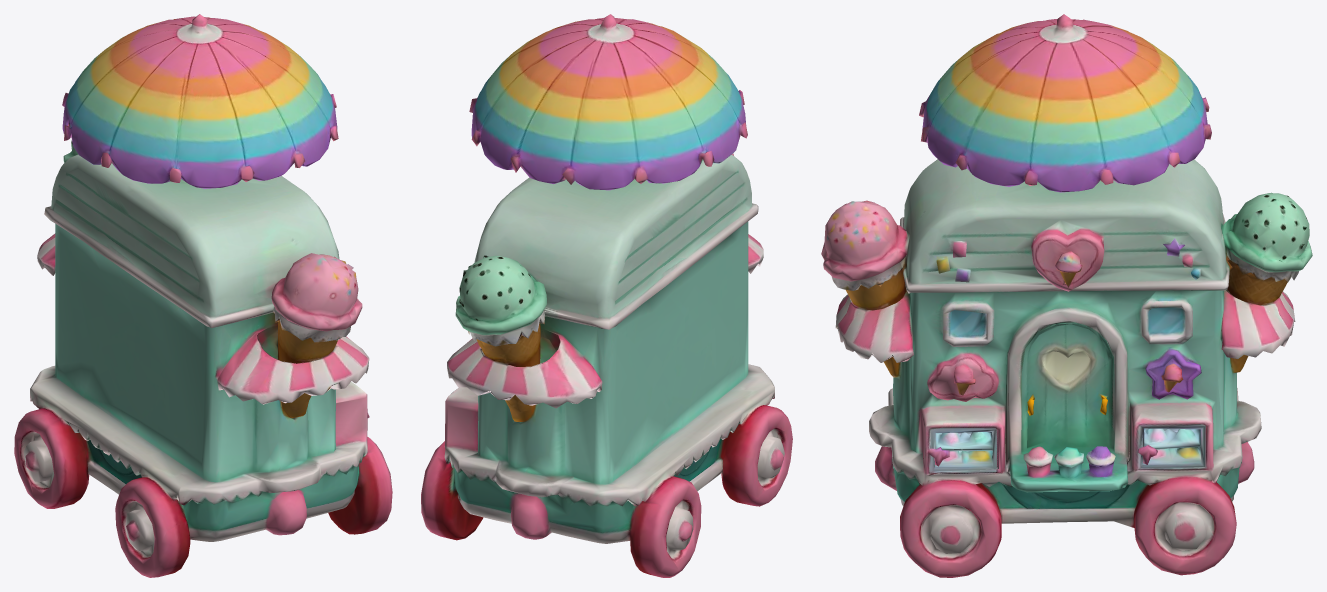
The model's file is ice_cream_cart.glb.
The picture shows the model from 3 angles, left to right: view 1: azimuth 30°, elevation 25°; view 2: azimuth 150°, elevation 25°; view 3: azimuth 270°, elevation 25°; orthographic projection. The views are drawn at different scales.
Visible parts, largest first — view 1: tripo_node_fd7876ca-8e8a-44a4-9964-e5330435db7a; view 2: tripo_node_fd7876ca-8e8a-44a4-9964-e5330435db7a; view 3: tripo_node_fd7876ca-8e8a-44a4-9964-e5330435db7a.
Boxes of the visible parts, <box> form: tripo_node_fd7876ca-8e8a-44a4-9964-e5330435db7a: <box>14,14,392,577</box>; tripo_node_fd7876ca-8e8a-44a4-9964-e5330435db7a: <box>421,14,792,577</box>; tripo_node_fd7876ca-8e8a-44a4-9964-e5330435db7a: <box>821,14,1312,577</box>.
Bounding box in the file's own units: 0.193 × 0.35 × 0.3057.
1 material, 1 textured.
